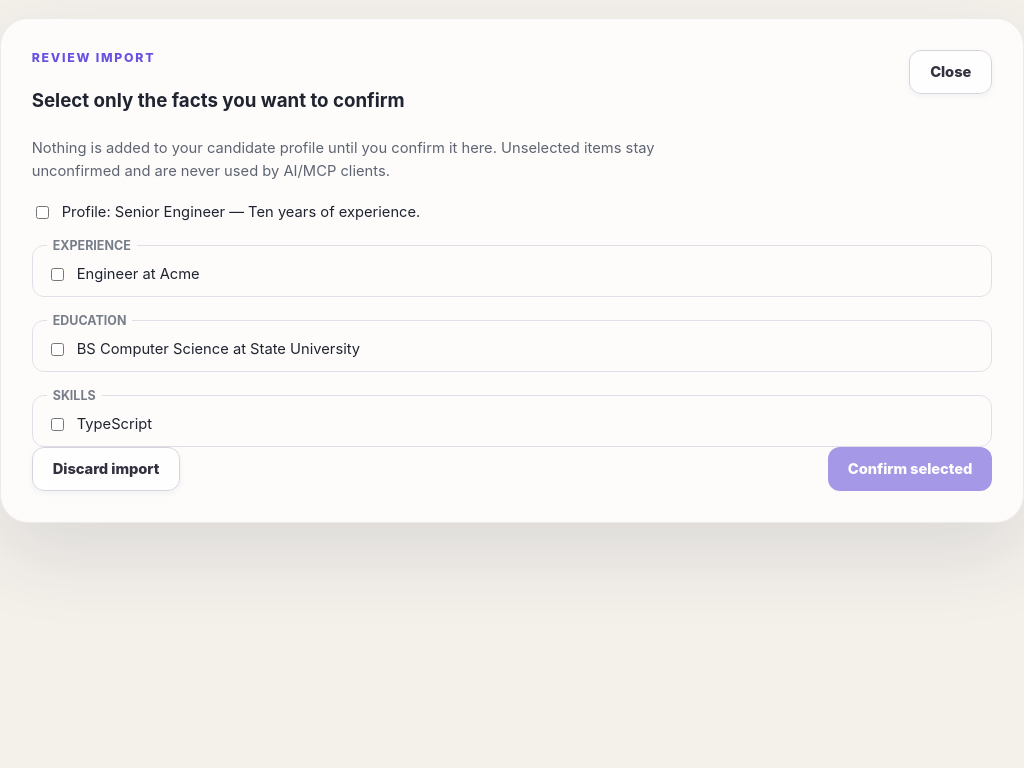
Test case: ProfileImportReview › renders LinkedIn preview items as checkboxes and confirms the selected ones
expect the text "Engineer at Acme" is shown: met, box [77, 265, 200, 283]
expect the text "BS Computer Science at State University" is shown: met, box [77, 340, 360, 358]
Click the checkbox labelled "Engineer at Acme" at (57, 274), box [51, 268, 64, 281]
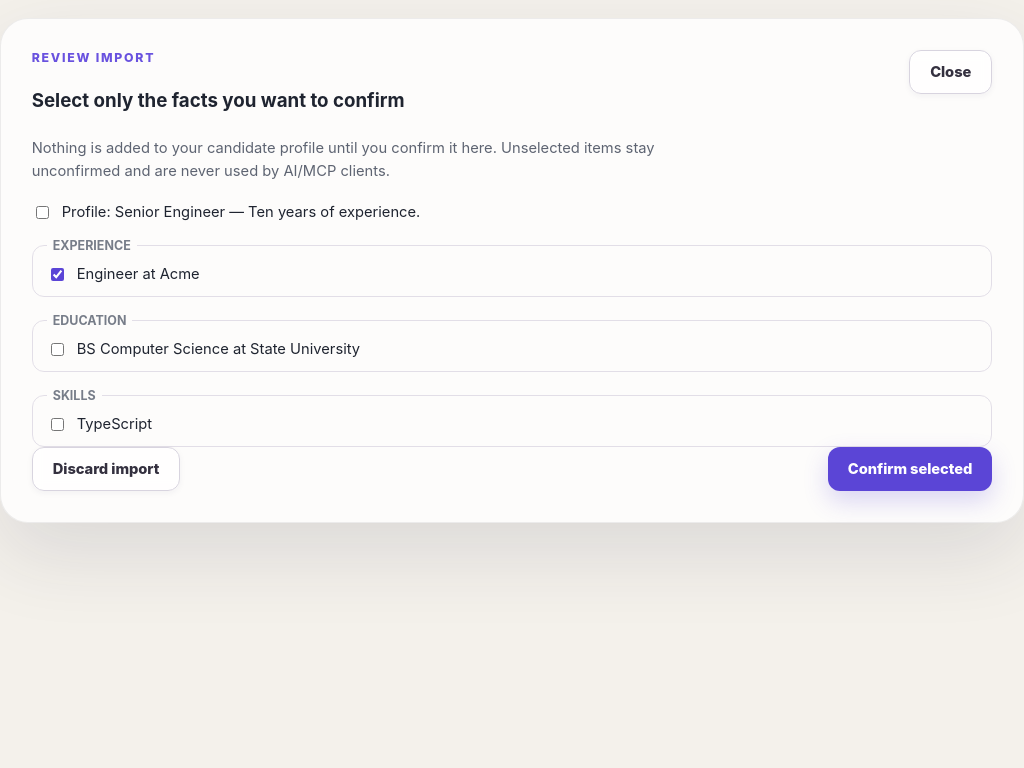
expect the button "Confirm selected" is enabled: met
Click the button "Confirm selected" at (910, 469), box [828, 447, 992, 491]
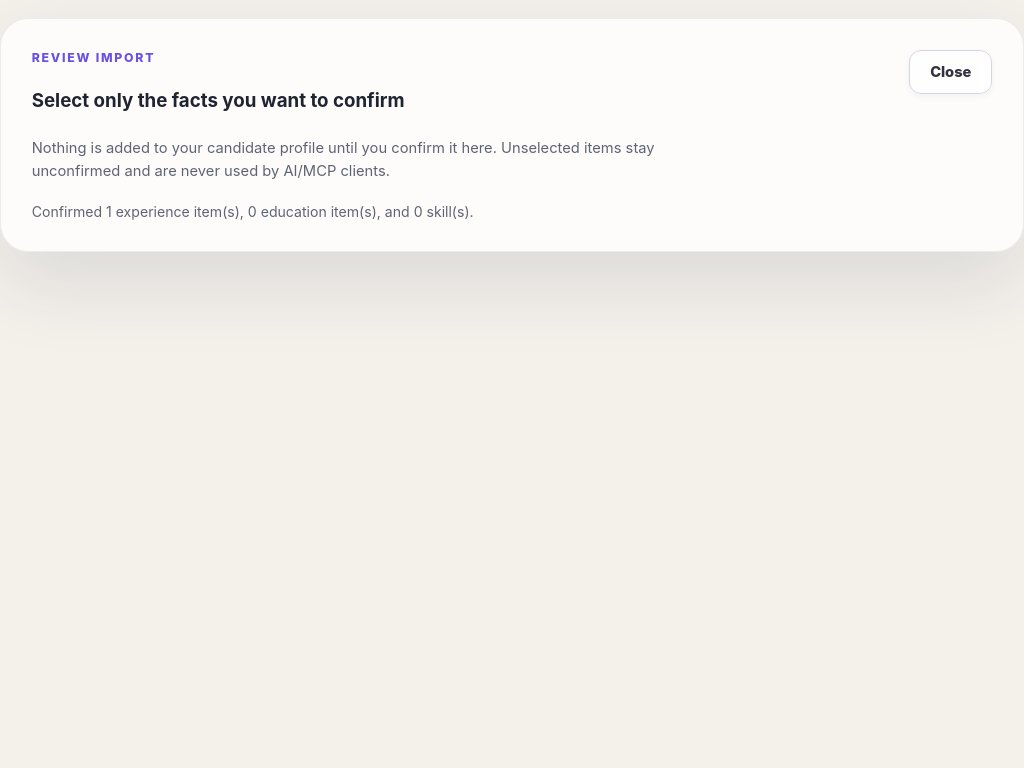
expect the text "Confirmed 1 experience item(s), 0 education item(s), and 0 skill(s)." is shown: met, box [32, 203, 474, 220]
